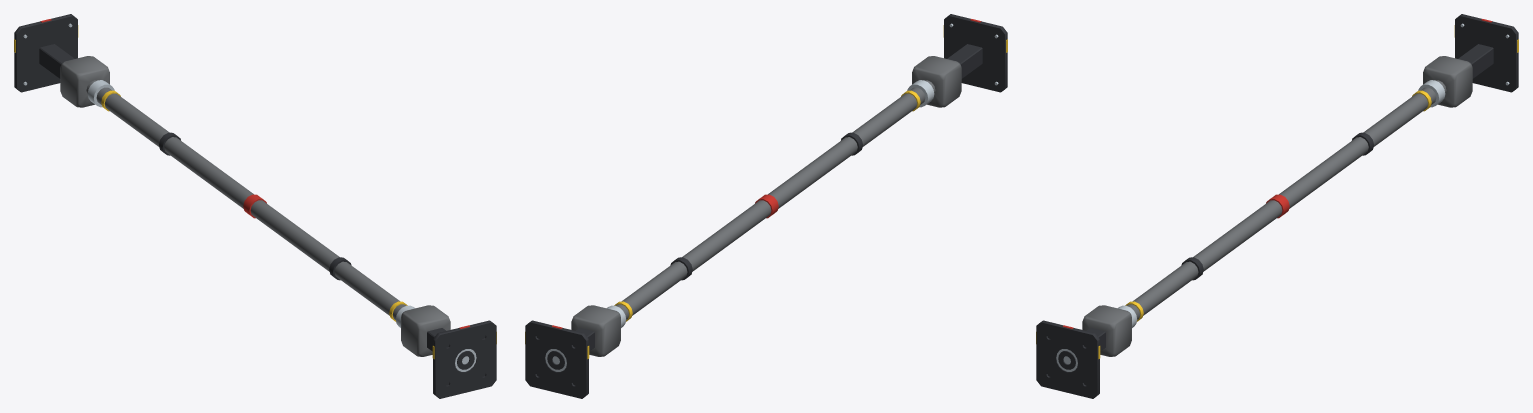
Rendered from R4C_ROD_LONG.glb.
3 renders of one model, left to right at view 1: azimuth 30°, elevation 25°; view 2: azimuth 150°, elevation 25°; view 3: azimuth 330°, elevation 25°, orthographic.
Parts seen in each view (by area): view 1: R4C_ROD_LONG; view 2: R4C_ROD_LONG; view 3: R4C_ROD_LONG.
Part boxes in pixels (x1=…): R4C_ROD_LONG: x1=14, y1=14, x2=496, y2=398; R4C_ROD_LONG: x1=525, y1=14, x2=1007, y2=398; R4C_ROD_LONG: x1=1036, y1=14, x2=1518, y2=398.
Size of the model in its own units: 0.2332 by 0.2316 by 2.72.
